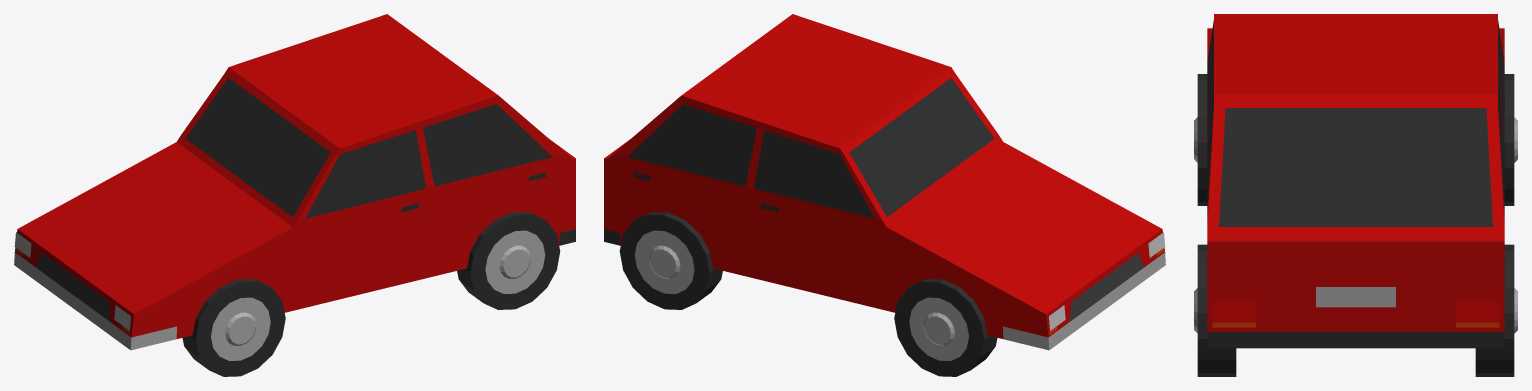
File: Car1a.fbx
3 views of the same model, side by side, from view 1: azimuth 30°, elevation 25°; view 2: azimuth 150°, elevation 25°; view 3: azimuth 270°, elevation 25° (orthographic). The views are drawn at different scales.
Visible parts, largest first — view 1: Car1a, Car1a_FL, Car1a_RL; view 2: Car1a, Car1a_FR, Car1a_RR; view 3: Car1a, Car1a_RL, Car1a_RR, Car1a_FL, Car1a_FR.
Boxes of the visible parts, box(x1,y1,x2,y2) form: Car1a: box(14, 14, 575, 350); Car1a_FL: box(182, 279, 285, 376); Car1a_RL: box(457, 212, 560, 309); Car1a: box(604, 14, 1165, 350); Car1a_FR: box(894, 279, 997, 376); Car1a_RR: box(619, 212, 722, 309); Car1a: box(1207, 14, 1504, 348); Car1a_RL: box(1194, 244, 1236, 376); Car1a_RR: box(1475, 244, 1517, 376); Car1a_FL: box(1194, 74, 1207, 205); Car1a_FR: box(1504, 74, 1517, 205).
Size of the model in its own units: 3.43 by 1.56 by 1.69.
